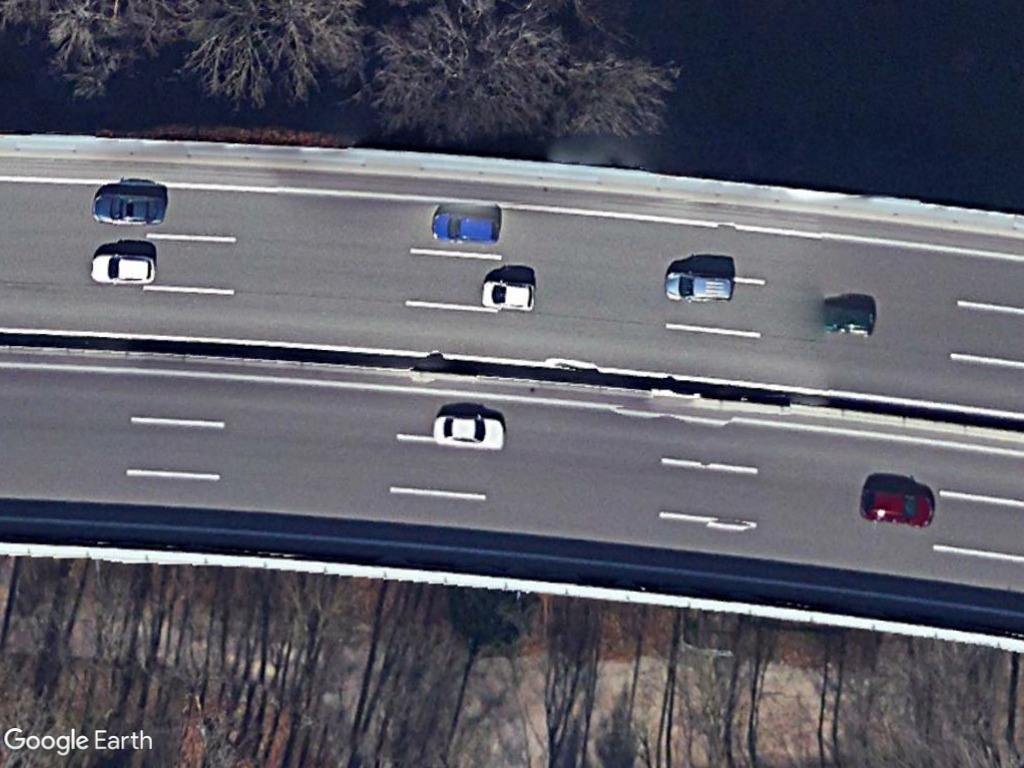car: (855, 486, 938, 529), (430, 411, 508, 450), (428, 209, 504, 247), (663, 267, 739, 305), (91, 192, 170, 226), (87, 252, 158, 286), (478, 277, 539, 314)
